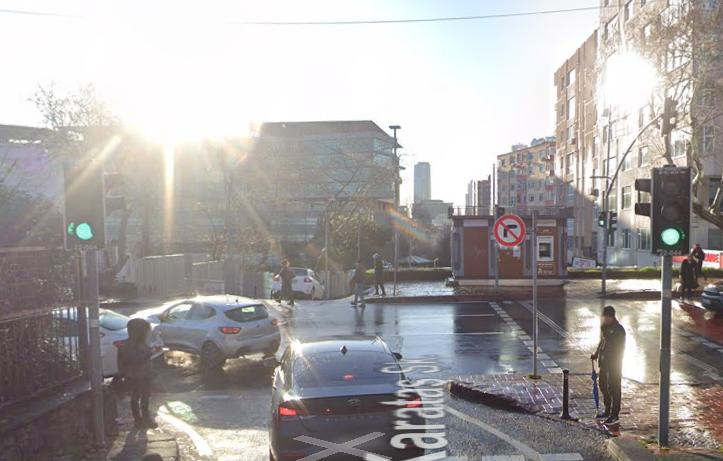greenlight: (654, 169, 689, 246), (64, 166, 98, 244)
rightturnsareforbidden: (495, 215, 525, 245)
